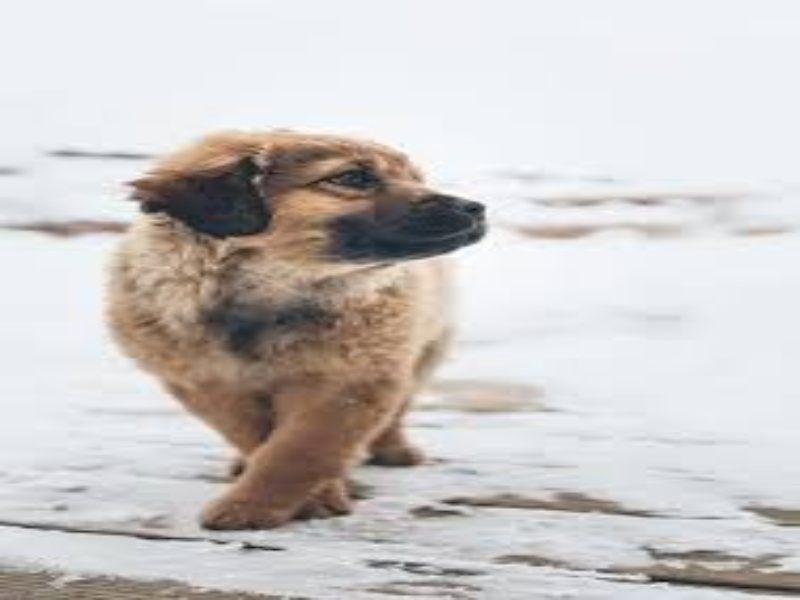dog: (103, 121, 496, 543)
